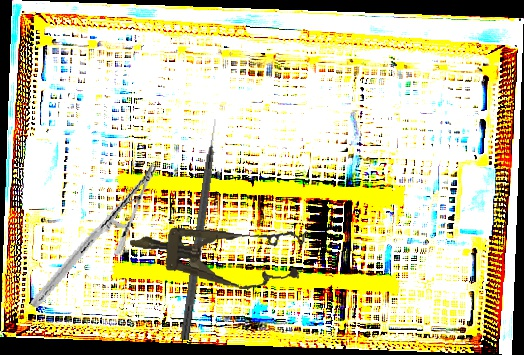Hook Surgical: (180, 118, 223, 341)
Needle Holder: (29, 144, 160, 327)
Speculum: (126, 210, 307, 296)
